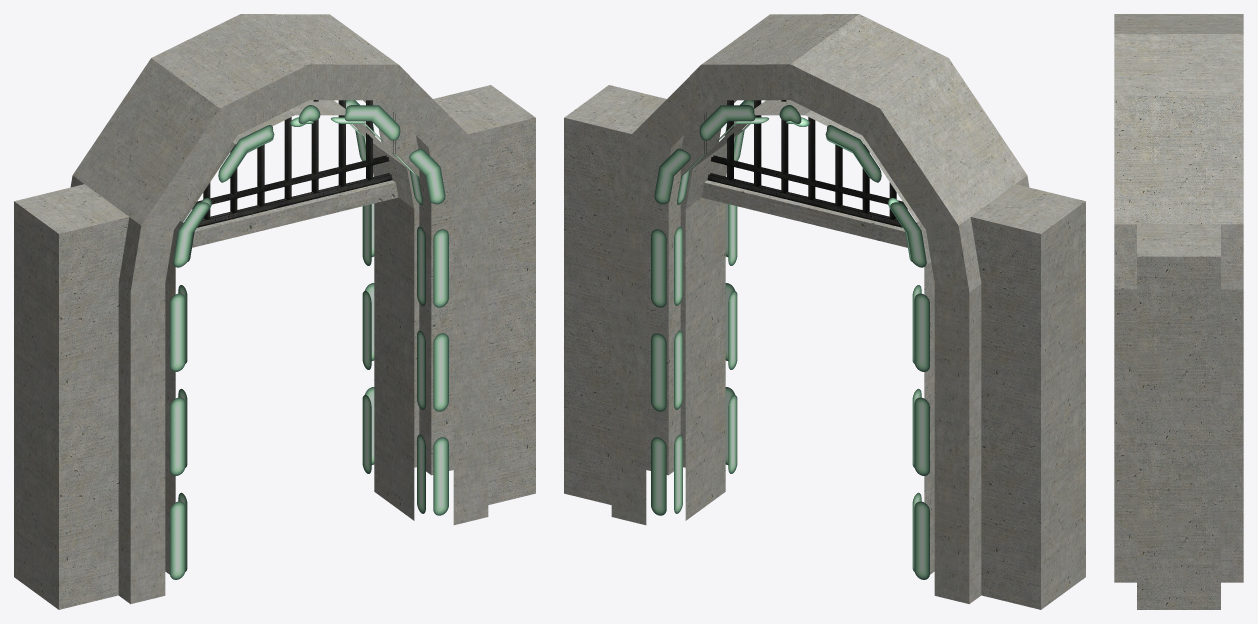
The model's file is thm_corl_imprv_gate_sm_s02_l1.fbx.
The picture shows the model from 3 angles, left to right: view 1: azimuth 30°, elevation 25°; view 2: azimuth 150°, elevation 25°; view 3: azimuth 270°, elevation 25°; orthographic projection. The views are drawn at different scales.
Visible parts, largest first — view 1: mesh_node; view 2: mesh_node; view 3: mesh_node.
Boxes of the visible parts, <box> form: mesh_node: <box>14,14,535,609</box>; mesh_node: <box>564,14,1085,609</box>; mesh_node: <box>1114,14,1243,609</box>.
Bounding box in the file's own units: 8 × 7.95 × 2.
